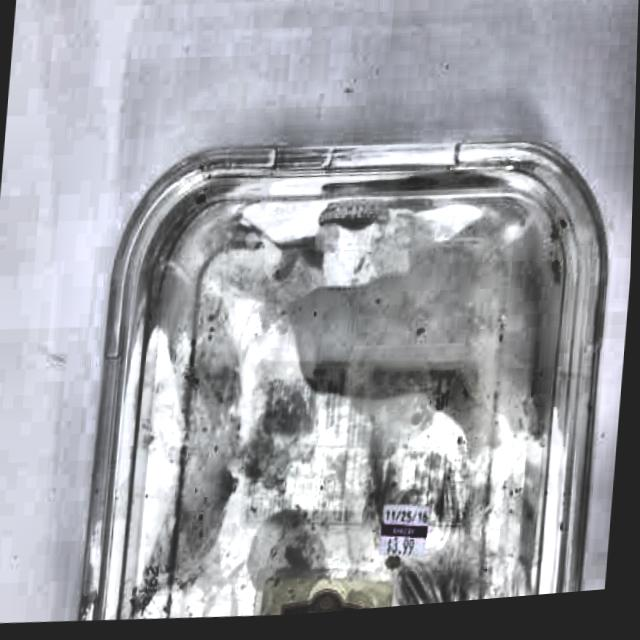Plastic: (62, 77, 637, 635)
